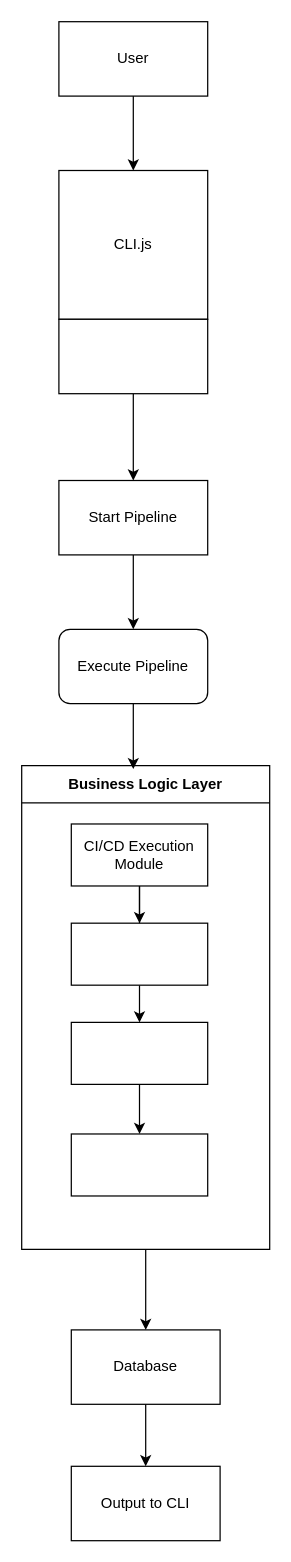
This 291x1562 diagram has some shape labels left out. The shapes that lost their labels are listed below. From the top down, each one's box as (x1, y1, x2, y2) in pixels, then its label:
(58, 318, 208, 394): run / status / log
(70, 922, 208, 985): Failure Classifier
(70, 1021, 208, 1084): Recovery Manager
(70, 1133, 208, 1196): Logger/ Monitoring /Notification
